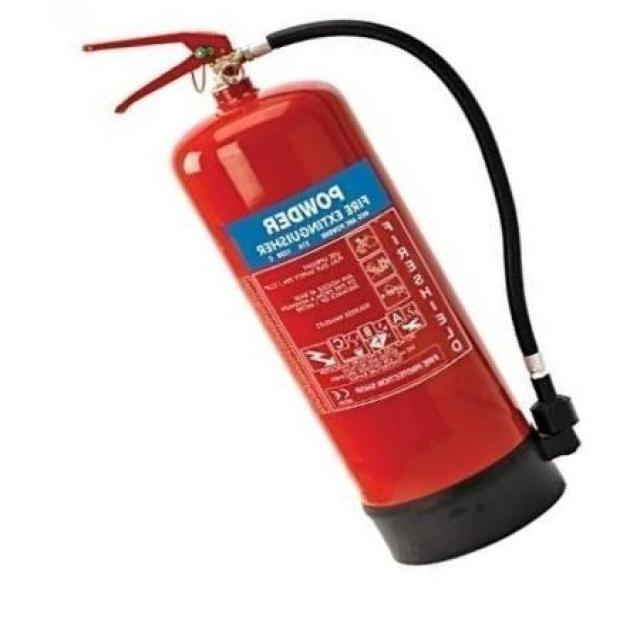fire_extinguisher: (74, 13, 584, 569)
